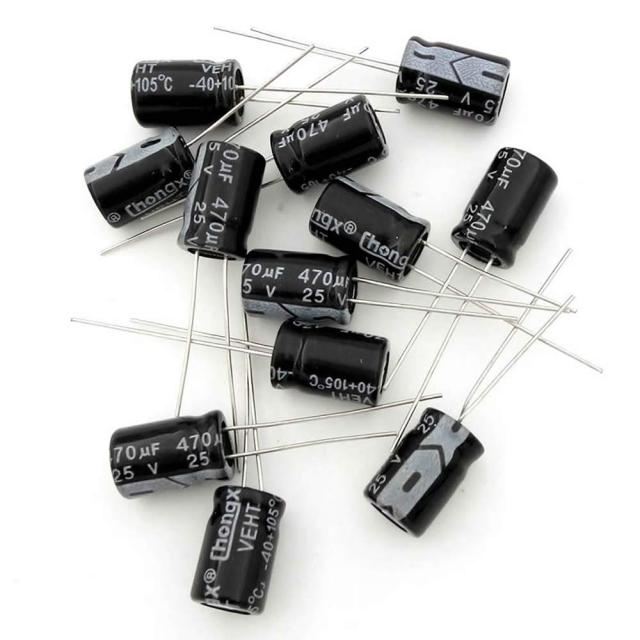capacitor: (364, 247, 576, 535), (382, 146, 558, 458), (85, 40, 376, 228), (104, 97, 390, 259), (313, 177, 580, 321), (108, 389, 444, 497), (68, 309, 390, 405), (214, 19, 514, 122), (189, 312, 283, 613), (172, 140, 266, 423), (240, 248, 574, 326), (129, 55, 449, 122)
